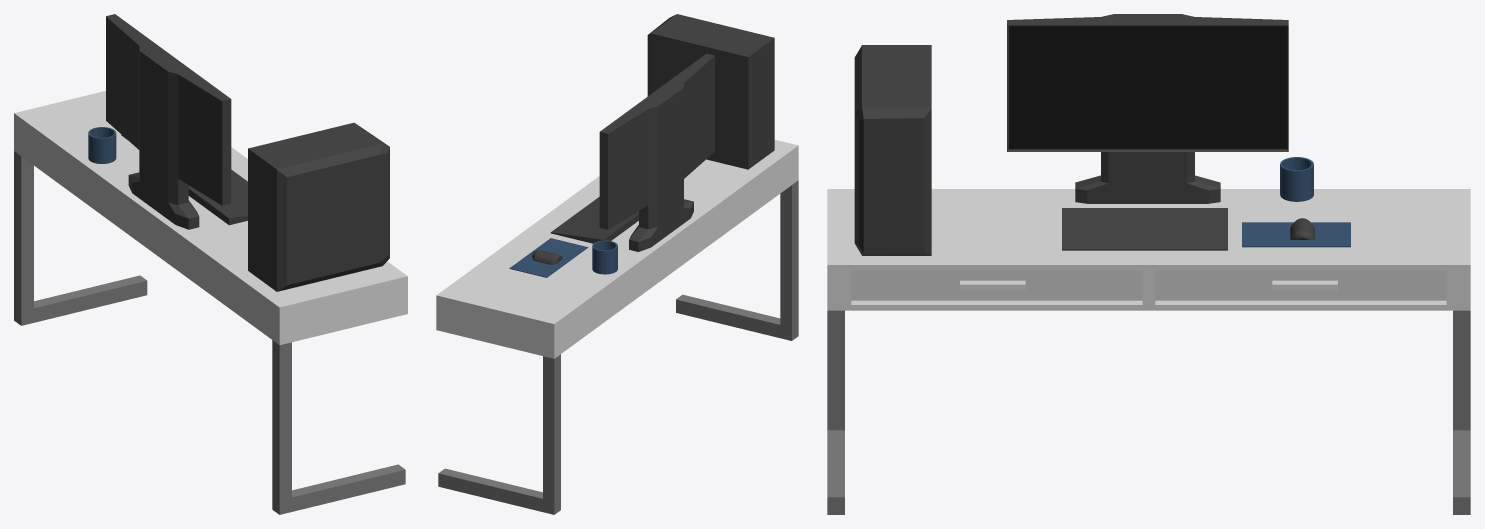
The model's file is bureau.fbx.
3 renders of one model, left to right at view 1: azimuth 30°, elevation 25°; view 2: azimuth 150°, elevation 25°; view 3: azimuth 270°, elevation 25°, orthographic. The views are drawn at different scales.
Parts seen in each view (by area): view 1: Bureau, Cube.010, Cube, Cube.001, Cylinder; view 2: Bureau, Cube, Cube.010, Cube.001, Cube.002, Cylinder; view 3: Bureau, Cube, Cube.010, Cube.001, Cube.002, Cylinder.
Boxes of the visible parts, left/top/right/bottom form: Bureau: left=14, top=91, right=407, bottom=514; Cube.010: left=248, top=122, right=389, bottom=291; Cube: left=106, top=14, right=231, bottom=229; Cube.001: left=188, top=169, right=247, bottom=225; Cylinder: left=88, top=127, right=116, bottom=163; Bureau: left=436, top=139, right=798, bottom=514; Cube: left=599, top=53, right=714, bottom=251; Cube.010: left=647, top=14, right=774, bottom=169; Cube.001: left=550, top=197, right=638, bottom=243; Cube.002: left=509, top=238, right=588, bottom=277; Cylinder: left=592, top=240, right=617, bottom=274; Bureau: left=827, top=189, right=1470, bottom=514; Cube: left=1007, top=14, right=1288, bottom=203; Cube.010: left=854, top=45, right=931, bottom=255; Cube.001: left=1062, top=208, right=1227, bottom=250; Cube.002: left=1242, top=222, right=1350, bottom=247; Cylinder: left=1280, top=157, right=1313, bottom=201.
Bounding box in the file's own units: 1062 × 2809 × 3806.
